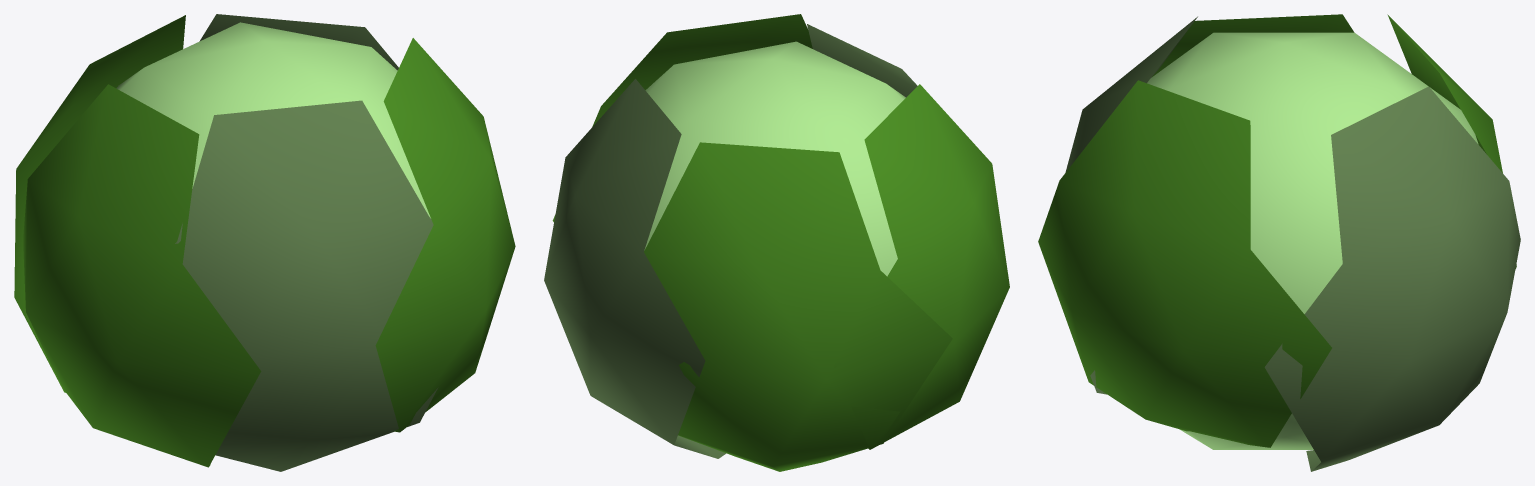
Rendered from Cabbage.glb.
3 views of the same model, side by side, from view 1: azimuth 30°, elevation 25°; view 2: azimuth 150°, elevation 25°; view 3: azimuth 270°, elevation 25° (orthographic). The views are drawn at different scales.
Parts seen in each view (by area): view 1: Icosphere.001; view 2: Icosphere.001; view 3: Icosphere.001.
Part boxes in pixels (<box>): Icosphere.001: <box>14,14,515,471</box>; Icosphere.001: <box>544,14,1009,471</box>; Icosphere.001: <box>1038,14,1520,471</box>.
Bounding box in the file's own units: 0.3986 × 0.3558 × 0.3902.
